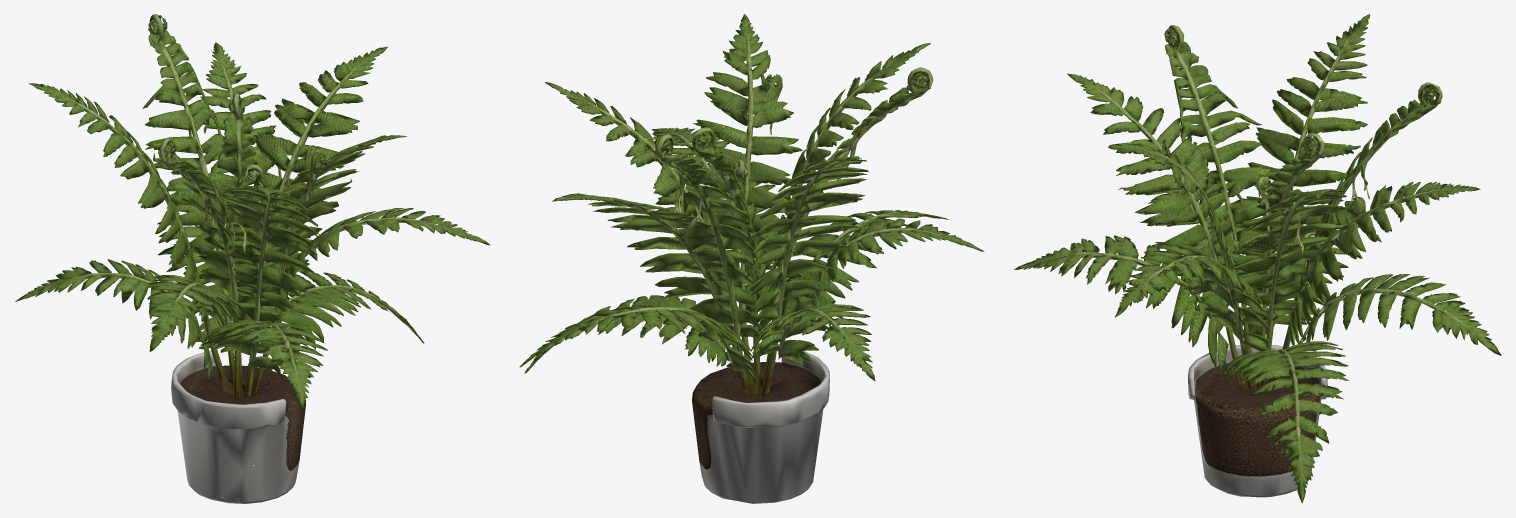
File: fern.glb
3 views of the same model, side by side, from view 1: azimuth 30°, elevation 25°; view 2: azimuth 150°, elevation 25°; view 3: azimuth 270°, elevation 25° (orthographic). The views are drawn at different scales.
Parts seen in each view (by area): view 1: tripo_node_503da293-5c49-4de7-8d18-3430a5dbbf24; view 2: tripo_node_503da293-5c49-4de7-8d18-3430a5dbbf24; view 3: tripo_node_503da293-5c49-4de7-8d18-3430a5dbbf24.
Part boxes in pixels (x1,y1,x2,y2): tripo_node_503da293-5c49-4de7-8d18-3430a5dbbf24: [15, 14, 490, 503]; tripo_node_503da293-5c49-4de7-8d18-3430a5dbbf24: [519, 14, 984, 503]; tripo_node_503da293-5c49-4de7-8d18-3430a5dbbf24: [1014, 14, 1501, 503].
Bounding box in the file's own units: 0.8573 × 0.8772 × 0.9798.
1 material, 1 textured.
